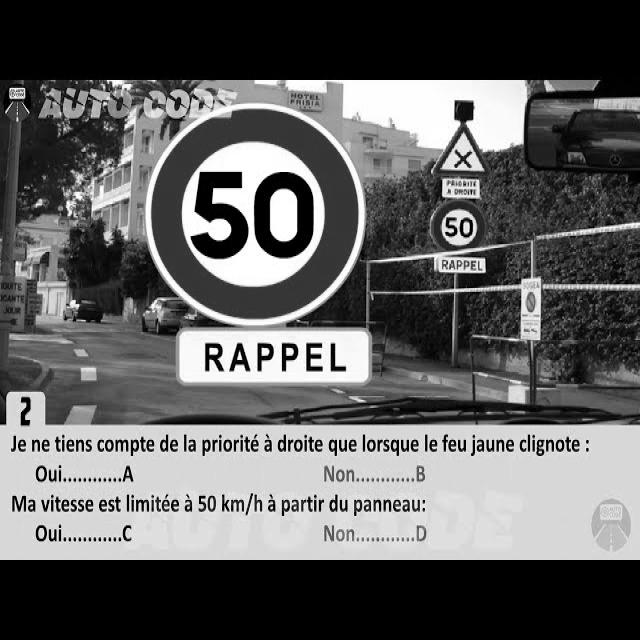danger: (432, 122, 493, 180)
speed_50: (144, 103, 370, 329), (430, 198, 485, 256)
